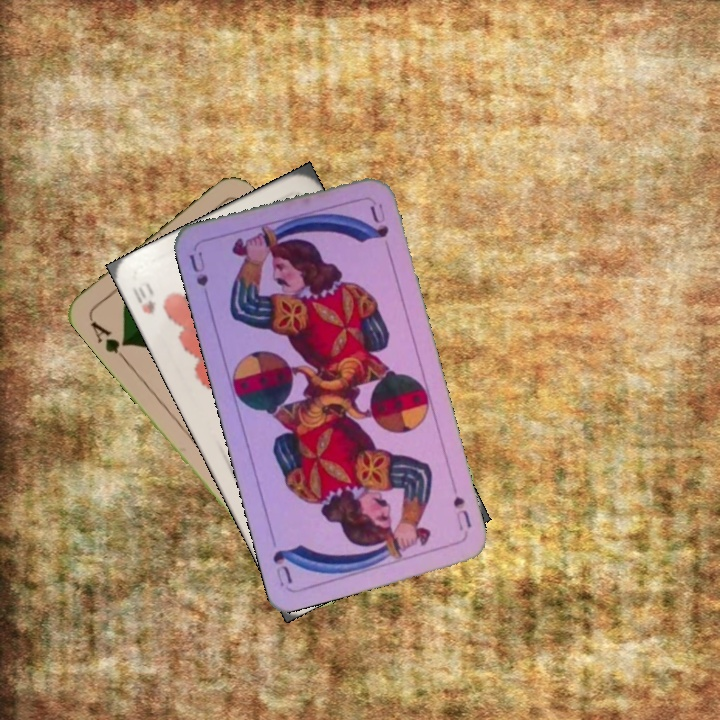GA: (86, 317, 131, 365)
H10: (128, 278, 159, 317)
SU: (447, 479, 474, 533), (185, 247, 211, 289)
